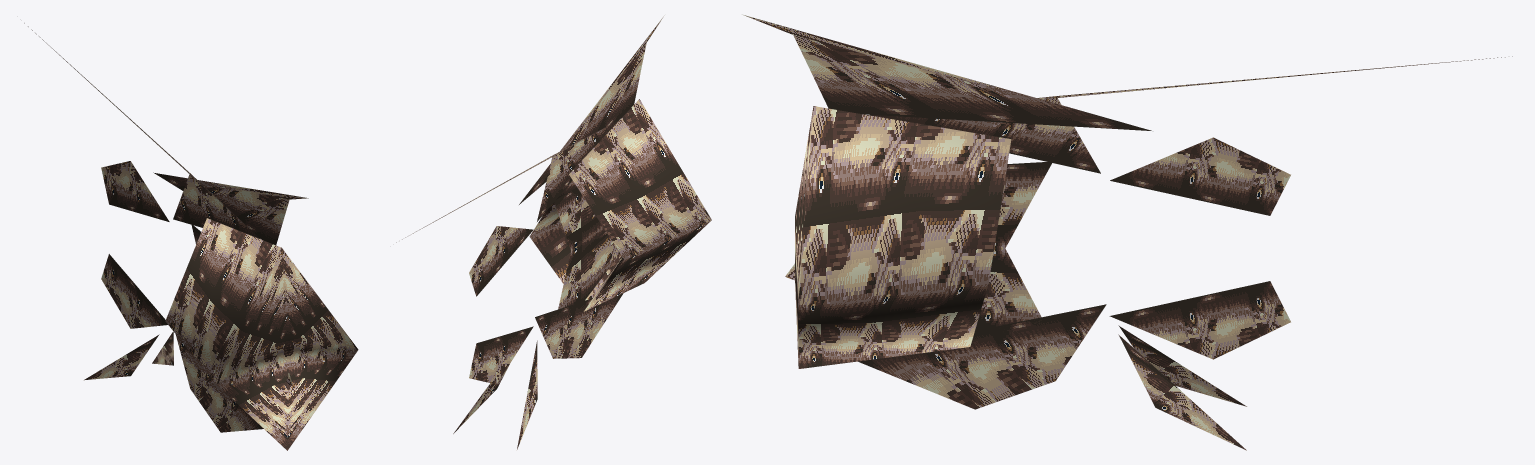
The model's file is 2149_fish79d.gltf.
3 views of the same model, side by side, from view 1: azimuth 30°, elevation 25°; view 2: azimuth 150°, elevation 25°; view 3: azimuth 270°, elevation 25° (orthographic). The views are drawn at different scales.
Parts seen in each view (by area): view 1: 2149_fish79d; view 2: 2149_fish79d; view 3: 2149_fish79d.
Boxes of the visible parts, x1,y1,x2,y2 form: 2149_fish79d: (24,23,358,450); 2149_fish79d: (396,15,711,449); 2149_fish79d: (742,14,1512,450).
Bounding box in the file's own units: 0.2705 × 0.571 × 0.9727.
1 material, 1 textured.
